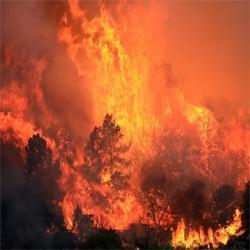fire: (95, 31, 145, 110), (184, 105, 213, 130)
